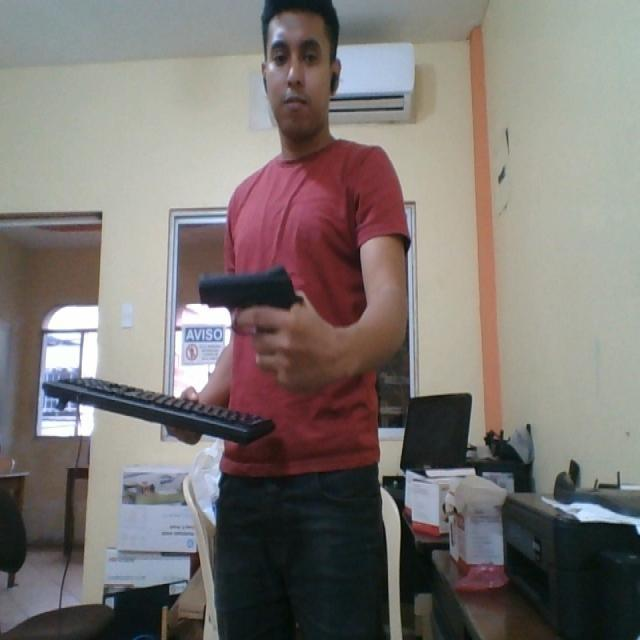weapon: (196, 265, 304, 338)
